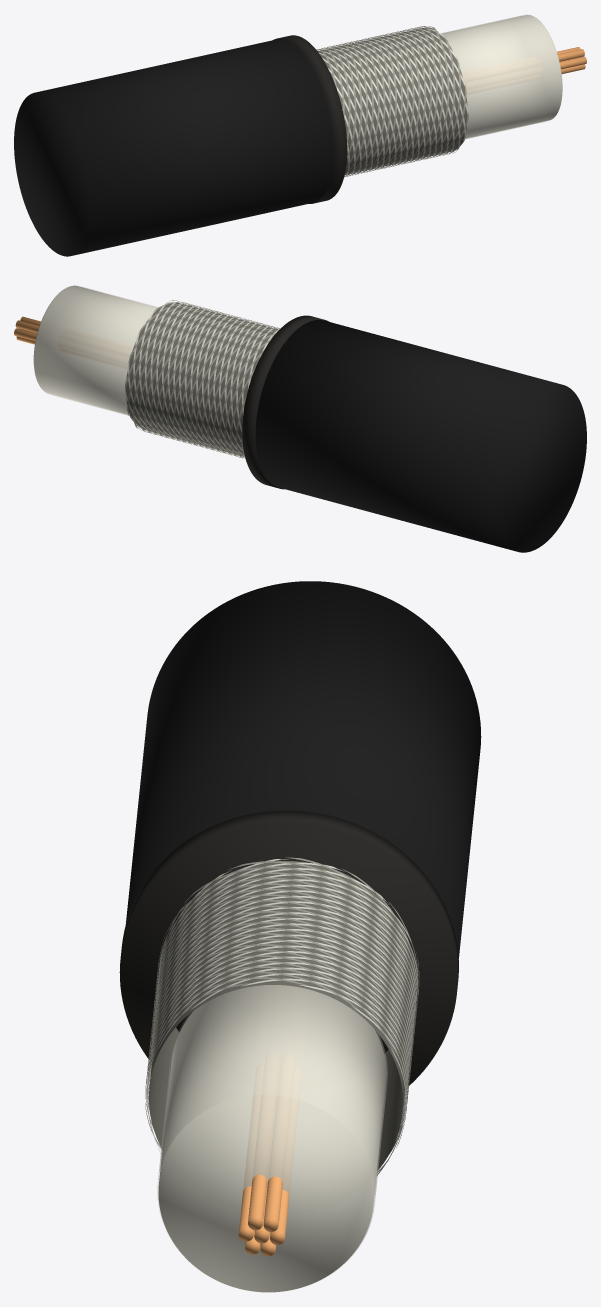
File: rf-syv507.glb
3 renders of one model, top to bottom at view 1: azimuth 30°, elevation 25°; view 2: azimuth 150°, elevation 25°; view 3: azimuth 270°, elevation 25°, orthographic. The views are drawn at different scales.
Visible parts, largest first — view 1: matte black pvc jacket body, smooth dielectric skin, gas injected foam dielectric, braid dark diamond recess, jacket cut lip, braid left hand woven carrier 14, braid left hand woven carrier 01, braid left hand woven carrier 13, braid left hand woven carrier 02, braid left hand woven carrier 12, braid left hand woven carrier 03, braid left hand woven carrier 11 (+16 smaller); view 2: matte black pvc jacket body, smooth dielectric skin, gas injected foam dielectric, braid dark diamond recess, jacket cut lip, braid left hand woven carrier 10, braid left hand woven carrier 09, braid left hand woven carrier 11, braid left hand woven carrier 08, braid left hand woven carrier 12, braid left hand woven carrier 07, braid left hand woven carrier 13 (+13 smaller); view 3: matte black pvc jacket body, gas injected foam dielectric, jacket cut lip, smooth dielectric skin, braid dark diamond recess, braid left hand woven carrier 10, braid left hand woven carrier 11, braid left hand woven carrier 12, braid left hand woven carrier 09, braid left hand woven carrier 13, braid right hand woven carrier 12, braid left hand woven carrier 08 (+12 smaller).
Boxes of the visible parts, bbox=[...] form: matte black pvc jacket body: bbox=[14, 39, 333, 256]; smooth dielectric skin: bbox=[441, 14, 561, 139]; gas injected foam dielectric: bbox=[441, 15, 562, 138]; braid dark diamond recess: bbox=[317, 27, 467, 174]; jacket cut lip: bbox=[273, 35, 347, 203]; braid left hand woven carrier 14: bbox=[339, 26, 443, 168]; braid left hand woven carrier 01: bbox=[344, 26, 449, 174]; braid left hand woven carrier 13: bbox=[331, 27, 437, 164]; braid left hand woven carrier 02: bbox=[344, 36, 455, 176]; braid left hand woven carrier 12: bbox=[327, 28, 431, 166]; braid left hand woven carrier 03: bbox=[344, 40, 460, 177]; braid left hand woven carrier 11: bbox=[321, 29, 426, 167]; matte black pvc jacket body: bbox=[255, 320, 586, 552]; smooth dielectric skin: bbox=[34, 285, 158, 415]; gas injected foam dielectric: bbox=[33, 285, 157, 414]; braid dark diamond recess: bbox=[126, 302, 277, 456]; jacket cut lip: bbox=[242, 315, 329, 489]; braid left hand woven carrier 10: bbox=[133, 309, 275, 452]; braid left hand woven carrier 09: bbox=[138, 311, 271, 454]; braid left hand woven carrier 11: bbox=[127, 308, 278, 451]; braid left hand woven carrier 08: bbox=[144, 312, 263, 455]; braid left hand woven carrier 12: bbox=[125, 306, 279, 449]; braid left hand woven carrier 07: bbox=[150, 314, 255, 457]; braid left hand woven carrier 13: bbox=[128, 305, 277, 448]; matte black pvc jacket body: bbox=[125, 581, 481, 958]; gas injected foam dielectric: bbox=[158, 985, 386, 1292]; jacket cut lip: bbox=[119, 810, 458, 1085]; smooth dielectric skin: bbox=[157, 985, 387, 1292]; braid dark diamond recess: bbox=[149, 861, 415, 1170]; braid left hand woven carrier 10: bbox=[150, 872, 415, 1175]; braid left hand woven carrier 11: bbox=[149, 877, 415, 1147]; braid left hand woven carrier 12: bbox=[149, 883, 414, 1101]; braid left hand woven carrier 09: bbox=[150, 866, 416, 1144]; braid left hand woven carrier 13: bbox=[148, 888, 414, 1079]; braid right hand woven carrier 12: bbox=[147, 879, 417, 1151]; braid left hand woven carrier 08: bbox=[151, 861, 416, 1127].
Size of the model in its own units: 6.54 by 1.84 by 1.97.
